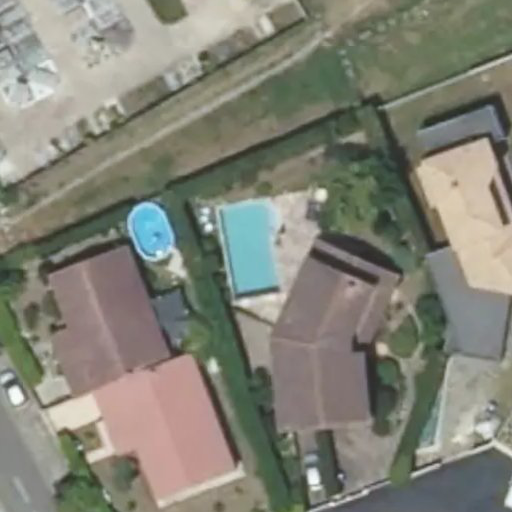pool: (224, 196, 292, 286)
